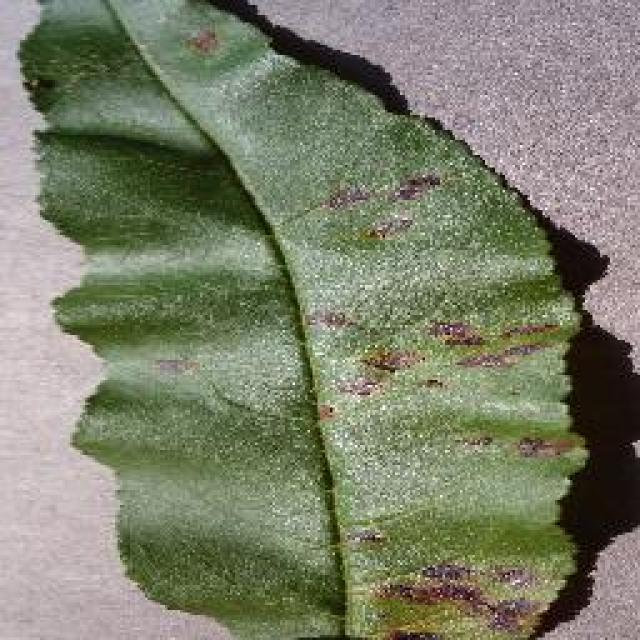Peach_Bacterial_Spot: (132, 17, 516, 595)
